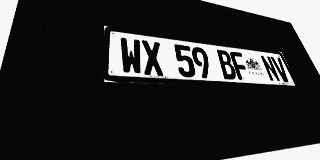5: (173, 44, 197, 78)
9: (190, 46, 214, 79)
B: (215, 49, 238, 80)
F: (229, 51, 251, 80)
N: (260, 55, 281, 82)
V: (270, 56, 291, 82)
W: (119, 37, 144, 75)
X: (141, 40, 165, 76)
